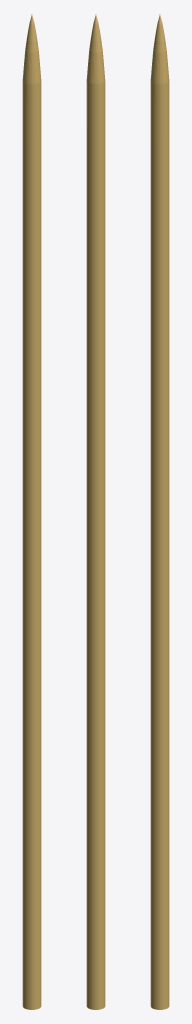
File: skewer.fbx
3 renders of one model, left to right at view 1: azimuth 90°, elevation 25°; view 2: azimuth 210°, elevation 25°; view 3: azimuth 270°, elevation 25°, orthographic.
Parts seen in each view (by area): view 1: Skewer; view 2: Skewer; view 3: Skewer.
Boxes of the visible parts, left/top/right/bottom form: Skewer: left=22, top=14, right=41, bottom=1009; Skewer: left=86, top=14, right=105, bottom=1009; Skewer: left=150, top=14, right=169, bottom=1009.
Size of the model in its own units: 28.33 by 1660 by 28.33.
